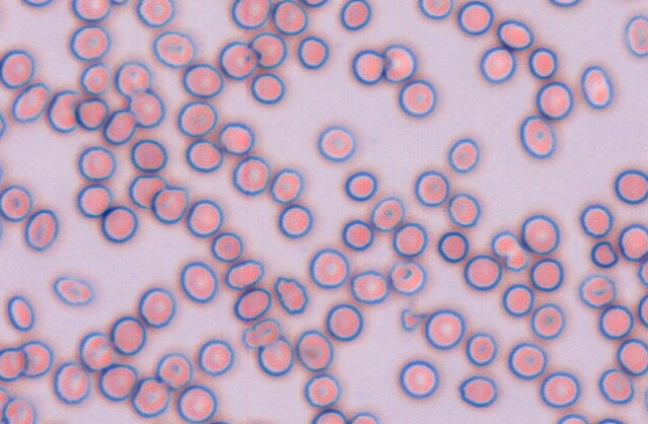RBC: (424, 308, 465, 349), (308, 247, 349, 288), (518, 114, 556, 158), (130, 376, 170, 417), (179, 261, 218, 303), (152, 30, 195, 68), (520, 214, 560, 254), (398, 359, 439, 398), (176, 384, 217, 423), (295, 329, 333, 371), (137, 286, 175, 328), (53, 361, 90, 404), (11, 82, 50, 122), (98, 362, 138, 401), (256, 335, 294, 376), (218, 41, 257, 80), (232, 155, 270, 195), (507, 341, 547, 379), (539, 371, 580, 408), (69, 24, 110, 61), (109, 315, 146, 356), (23, 208, 58, 251), (100, 204, 138, 243), (535, 81, 573, 120), (398, 78, 436, 117), (177, 100, 217, 137), (182, 62, 223, 98), (580, 65, 613, 109), (325, 303, 363, 341), (151, 185, 188, 224), (186, 198, 223, 237), (463, 253, 502, 290), (317, 125, 356, 162), (128, 88, 164, 128), (78, 331, 114, 371), (0, 48, 35, 89), (155, 352, 193, 389), (479, 45, 516, 83), (114, 60, 151, 98), (77, 145, 116, 181), (349, 269, 389, 304), (249, 31, 286, 68), (197, 338, 234, 375), (128, 173, 166, 209), (273, 275, 308, 314), (598, 367, 634, 404), (578, 273, 616, 308), (388, 260, 426, 295), (391, 221, 427, 257), (303, 373, 340, 408), (271, 0, 308, 35), (456, 0, 493, 35), (414, 170, 449, 207), (19, 339, 53, 377), (233, 287, 271, 321), (458, 374, 497, 407), (241, 317, 281, 349), (224, 258, 264, 290), (76, 183, 112, 218), (613, 168, 648, 204), (269, 167, 303, 204), (185, 138, 222, 172), (217, 121, 254, 155), (530, 302, 564, 339), (130, 138, 167, 172), (52, 275, 93, 305), (369, 196, 404, 231), (598, 304, 633, 339), (277, 203, 312, 238), (102, 109, 136, 145), (446, 192, 480, 227), (579, 203, 613, 238), (0, 184, 32, 221), (616, 338, 648, 375), (529, 257, 563, 291), (351, 49, 384, 84), (447, 137, 479, 173), (496, 19, 533, 50), (618, 223, 648, 261), (231, 0, 270, 29), (465, 331, 497, 366), (75, 97, 108, 130), (501, 283, 534, 316), (250, 72, 284, 104), (297, 35, 329, 69), (79, 62, 111, 95), (437, 230, 469, 263), (136, 0, 175, 27), (6, 294, 34, 331), (341, 218, 373, 250), (210, 231, 243, 262), (344, 170, 377, 201), (624, 14, 647, 57), (339, 0, 371, 30), (528, 46, 557, 79), (2, 397, 35, 423), (0, 347, 25, 381), (71, 0, 111, 21), (417, 0, 452, 19), (310, 408, 347, 423), (637, 292, 648, 328), (348, 411, 378, 423), (555, 413, 589, 423), (637, 257, 648, 286), (548, 0, 582, 7), (20, 0, 53, 7), (0, 386, 9, 409), (301, 0, 328, 7), (0, 0, 6, 31), (595, 417, 625, 423), (0, 110, 6, 139), (241, 419, 274, 424), (643, 384, 648, 413), (204, 419, 232, 424), (0, 214, 4, 246), (0, 160, 4, 187), (109, 0, 129, 5)
Schistocyte: (48, 85, 85, 133), (492, 230, 530, 272), (384, 45, 416, 82), (400, 307, 431, 332), (592, 240, 618, 268)
